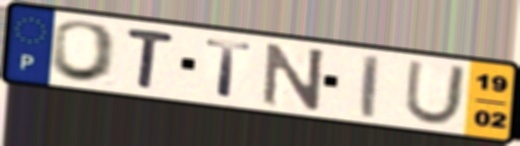I: (360, 52, 382, 121)
N: (260, 41, 328, 112)
O: (45, 18, 122, 85)
T: (124, 25, 178, 92), (203, 37, 255, 100)
U: (400, 59, 469, 128)
